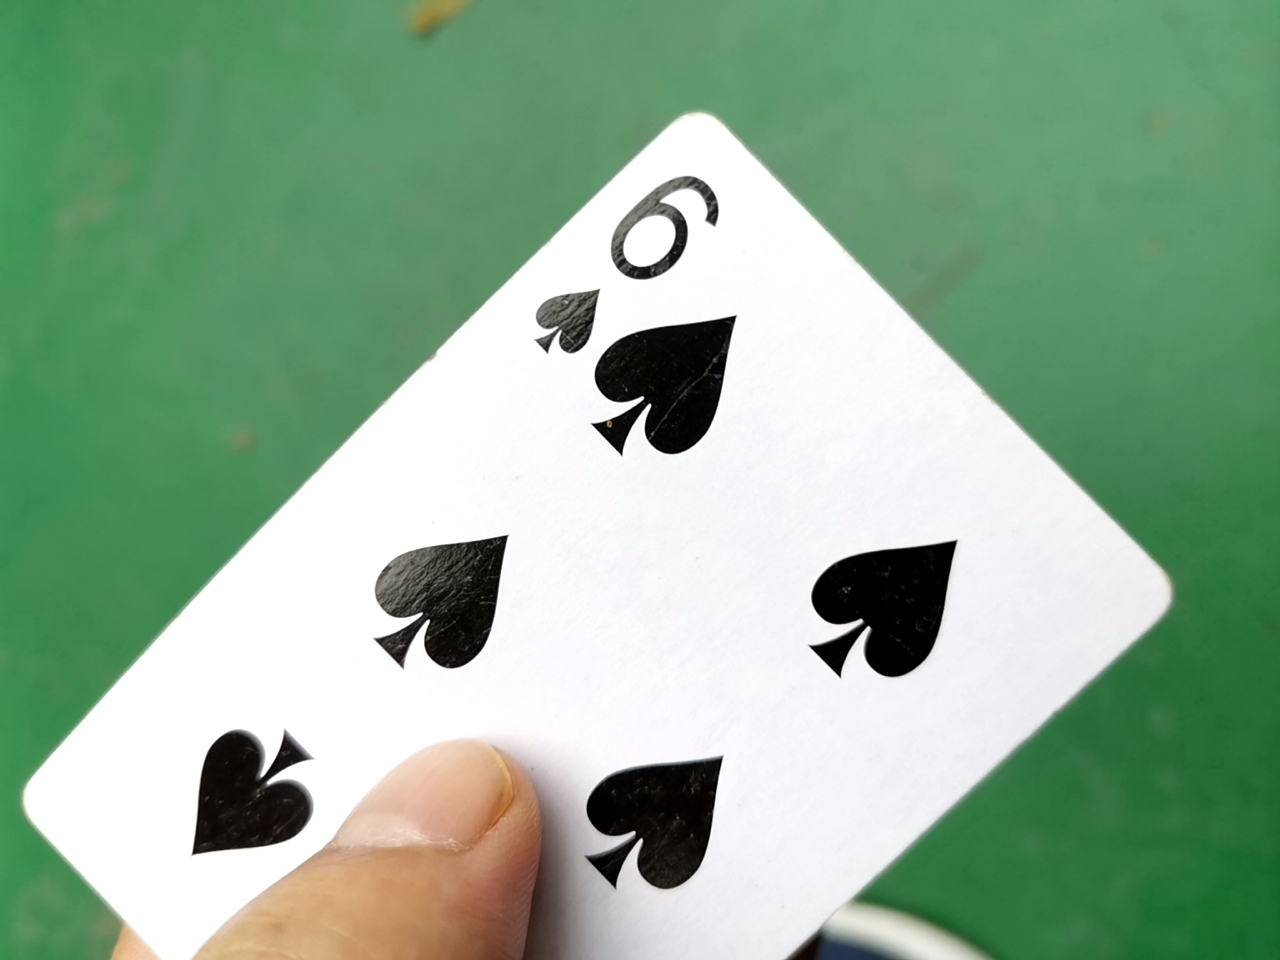ht 6: (21, 125, 1197, 959)
